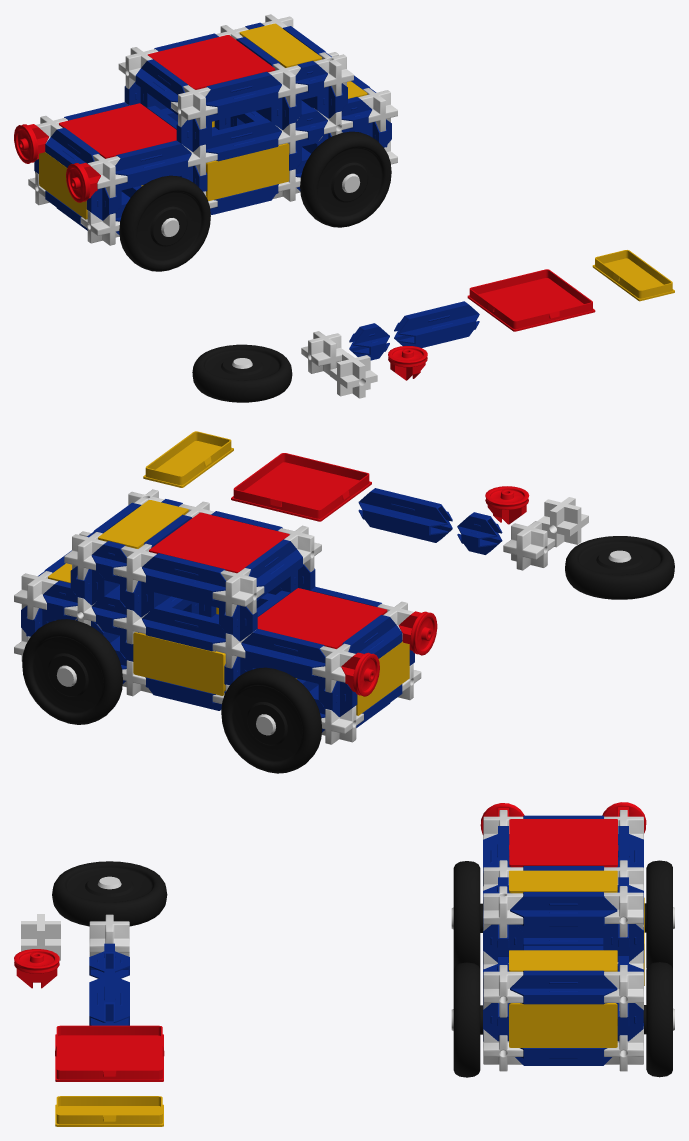
File: seva v1.fbx
3 renders of one model, top to bottom at view 1: azimuth 30°, elevation 25°; view 2: azimuth 150°, elevation 25°; view 3: azimuth 270°, elevation 25°, orthographic. The views are drawn at different scales.
Visible parts, largest first — view 1: wheel.002, wheel.004, big plane.001, wheel.001, big plane.004, big plane.002, small plane.006, long rod.001, long rod.026, long rod.012, small plane.001, long rod.017 (+25 smaller); view 2: wheel.005, wheel.003, big plane.001, wheel.001, big plane.004, big plane.002, small plane.005, long rod.001, long rod.025, long rod.004, small plane.001, long rod.016 (+31 smaller); view 3: big plane.001, wheel.001, big plane.004, small plane.003, long rod.028, small plane.001, wheel.002, long rod.021, wheel.003, wheel.004, wheel.005, small plane.009 (+24 smaller).
Boxes of the visible parts, left/top/right/bottom form: wheel.002: left=300, top=131, right=391, bottom=227; wheel.004: left=119, top=175, right=210, bottom=271; big plane.001: left=467, top=269, right=595, bottom=331; wheel.001: left=192, top=344, right=292, bottom=402; big plane.004: left=147, top=35, right=275, bottom=89; big plane.002: left=59, top=103, right=176, bottom=158; small plane.006: left=206, top=143, right=289, bottom=200; long rod.001: left=394, top=301, right=479, bottom=347; long rod.026: left=205, top=71, right=281, bottom=121; long rod.012: left=115, top=140, right=191, bottom=190; small plane.001: left=592, top=250, right=674, bottom=301; long rod.017: left=206, top=118, right=281, bottom=161; wheel.005: left=221, top=667, right=321, bottom=773; wheel.003: left=22, top=619, right=122, bottom=724; big plane.001: left=231, top=453, right=371, bottom=521; wheel.001: left=565, top=536, right=674, bottom=599; big plane.004: left=149, top=512, right=289, bottom=573; big plane.002: left=257, top=588, right=387, bottom=648; small plane.005: left=133, top=632, right=225, bottom=695; long rod.001: left=358, top=488, right=452, bottom=542; long rod.025: left=142, top=553, right=225, bottom=607; long rod.004: left=241, top=629, right=325, bottom=683; small plane.001: left=143, top=431, right=233, bottom=487; long rod.016: left=142, top=604, right=225, bottom=651; big plane.001: left=55, top=1025, right=164, bottom=1081; wheel.001: left=52, top=861, right=167, bottom=926; big plane.004: left=509, top=819, right=618, bottom=867; small plane.003: left=509, top=1003, right=617, bottom=1047; long rod.028: left=510, top=892, right=617, bottom=933; small plane.001: left=55, top=1096, right=163, bottom=1126; wheel.002: left=453, top=962, right=482, bottom=1077; long rod.021: left=510, top=970, right=617, bottom=1004; wheel.003: left=643, top=962, right=672, bottom=1077; wheel.004: left=453, top=861, right=482, bottom=968; wheel.005: left=644, top=860, right=672, bottom=968; small plane.009: left=509, top=870, right=617, bottom=893.
Size of the model in its own units: 22.47 by 7.35 by 24.65.
